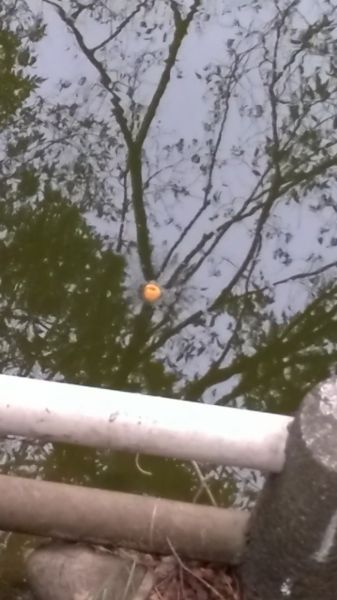eggs: (136, 279, 163, 304)
